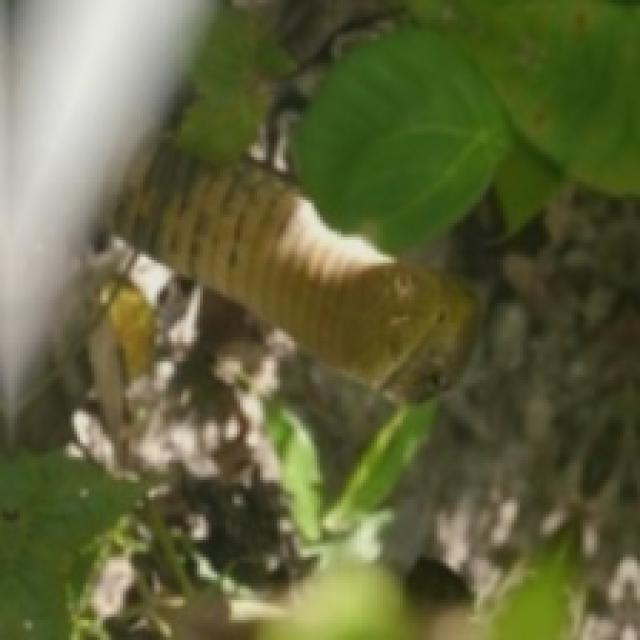king cobra: (114, 137, 474, 391), (0, 0, 206, 434)
